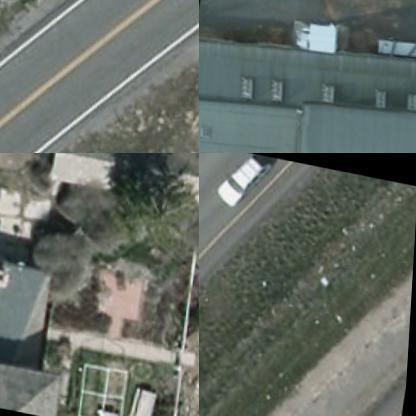car: (209, 153, 272, 208)
